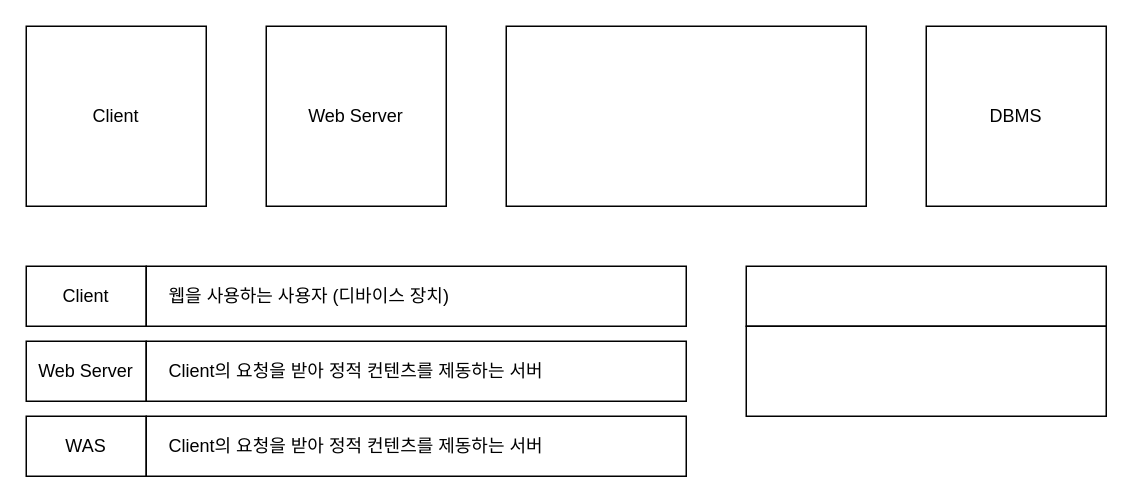
The diagram is 1133 pixels wide and 503 high, and some of its shapes have lost their labels. The shapes that lost their labels are listed below. From the top down, each one's centre as x and y in pixels, then its label:
At pixel 685 115: "WAS (Web Application Server)".
At pixel 925 295: "정적컨텐츠".
At pixel 925 370: "단순 문서, CSS, JS, 이미지 등... 즉시 응답 가능한 컨텐츠".
